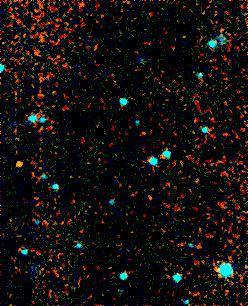star: (3, 142, 33, 172)
